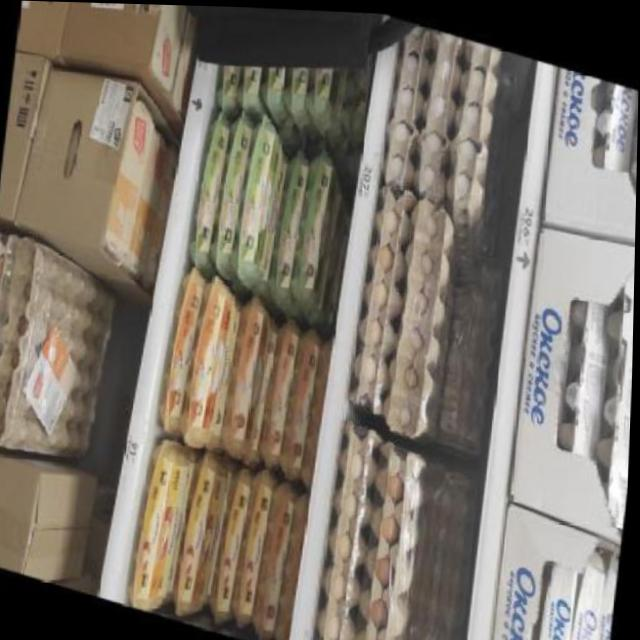Egg: (590, 254, 636, 527), (128, 431, 192, 616), (556, 281, 616, 464), (181, 272, 241, 452), (232, 107, 288, 291), (175, 442, 229, 622), (290, 141, 343, 315), (223, 289, 275, 463), (160, 259, 206, 437), (106, 95, 153, 269), (210, 105, 256, 277), (269, 137, 313, 309), (231, 463, 275, 634), (255, 472, 299, 640), (189, 105, 232, 275), (212, 456, 255, 626), (127, 120, 170, 282), (281, 323, 322, 481), (261, 312, 300, 470), (532, 545, 585, 640), (564, 541, 613, 640), (592, 76, 637, 177), (303, 53, 345, 139), (338, 56, 373, 146), (589, 547, 620, 640), (621, 84, 639, 235), (281, 55, 312, 125), (259, 52, 289, 114), (235, 53, 265, 112), (214, 56, 241, 113)
